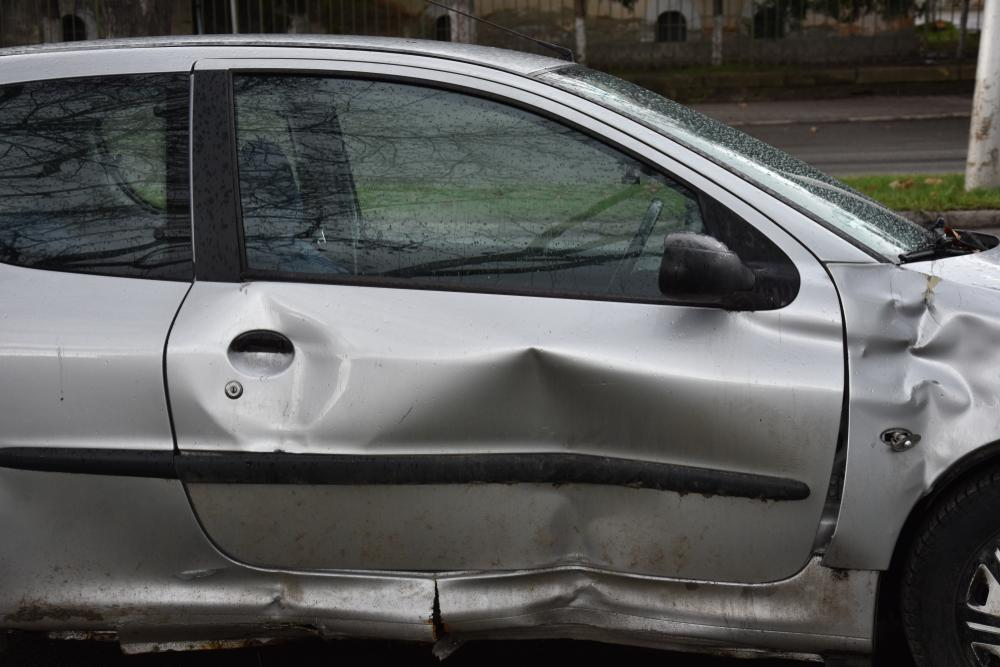crack: (429, 577, 445, 641)
dent: (359, 344, 717, 574), (846, 293, 1000, 489), (195, 282, 348, 447), (673, 313, 842, 382), (514, 578, 610, 633)
